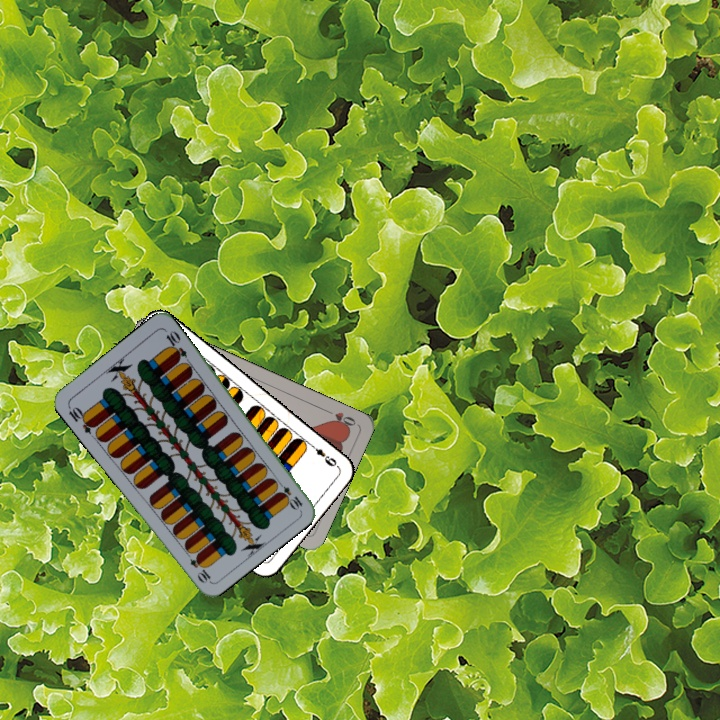E10: (64, 402, 98, 436), (272, 477, 305, 512)
E9: (306, 440, 339, 469)
HO: (321, 405, 359, 431)
